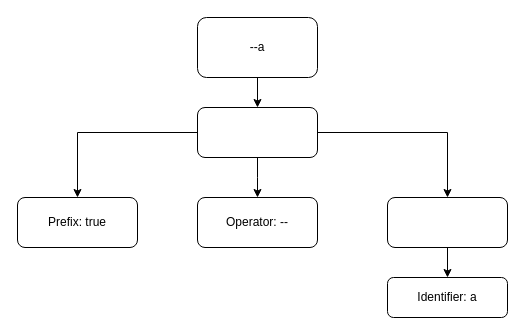
Some shapes in this 525 by 335 pixel diagram are drawn without their labels. Here are the shapes that lost their labels. From the top down, the centre of each, then its label:
At pixel 257 132: "Update Expression".
At pixel 447 222: "Argument".
